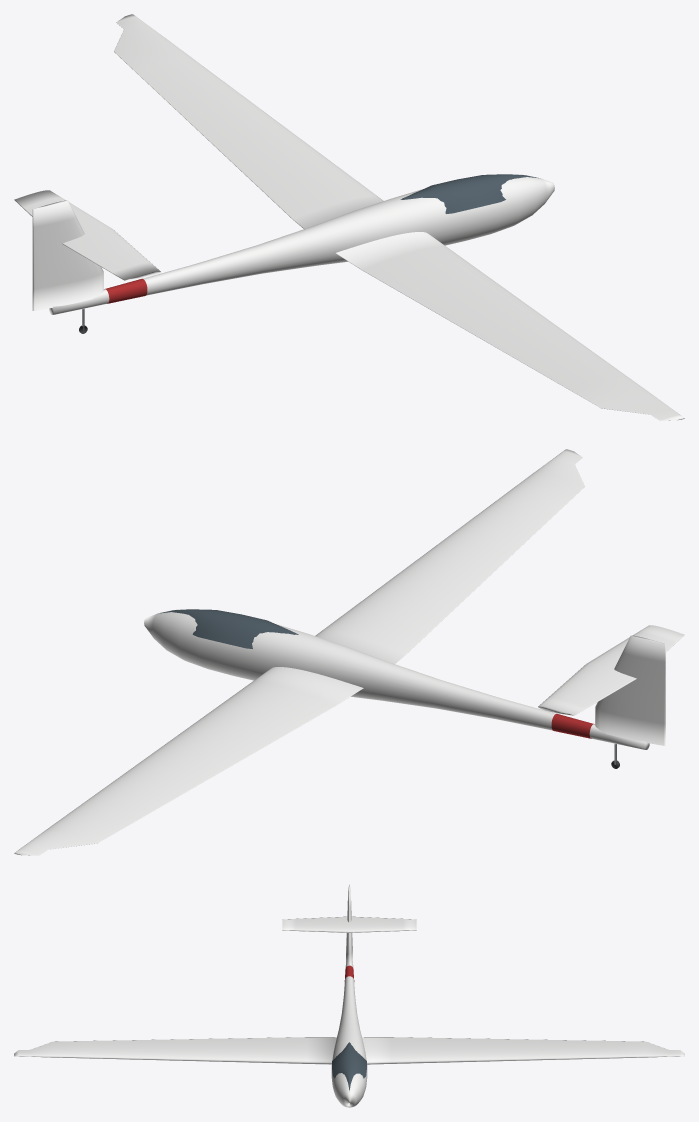
The model's file is glider-swift-s1-like-own.glb.
3 renders of one model, top to bottom at view 1: azimuth 30°, elevation 25°; view 2: azimuth 150°, elevation 25°; view 3: azimuth 270°, elevation 25°, orthographic. The views are drawn at different scales.
Parts seen in each view (by area): view 1: Wing-1, Wing1, Pod, Fin, Stabiliser, Canopy, BoomTrim; view 2: Wing1, Wing-1, Pod, Fin, Stabiliser, Canopy, BoomTrim; view 3: Wing1, Wing-1, Pod, Stabiliser, Canopy, Fin.
Boxes of the visible parts, left/top/right/bottom form: Wing-1: left=335, top=232, right=684, bottom=420; Wing1: left=114, top=14, right=383, bottom=228; Pod: left=49, top=174, right=554, bottom=314; Fin: left=32, top=200, right=103, bottom=310; Stabiliser: left=14, top=190, right=160, bottom=280; Canopy: left=400, top=174, right=538, bottom=213; BoomTrim: left=104, top=278, right=147, bottom=303; Wing1: left=14, top=667, right=363, bottom=855; Wing-1: left=315, top=449, right=584, bottom=663; Pod: left=144, top=609, right=649, bottom=749; Fin: left=595, top=635, right=665, bottom=745; Stabiliser: left=538, top=625, right=684, bottom=715; Canopy: left=160, top=609, right=298, bottom=648; BoomTrim: left=551, top=713, right=594, bottom=738; Wing1: left=362, top=1037, right=684, bottom=1064; Wing-1: left=14, top=1037, right=336, bottom=1064; Pod: left=331, top=961, right=367, bottom=1107; Stabiliser: left=282, top=916, right=416, bottom=932; Canopy: left=332, top=1042, right=366, bottom=1090; Fin: left=346, top=884, right=352, bottom=964.
Size of the model in its own units: 6.91 by 2.03 by 12.68.
